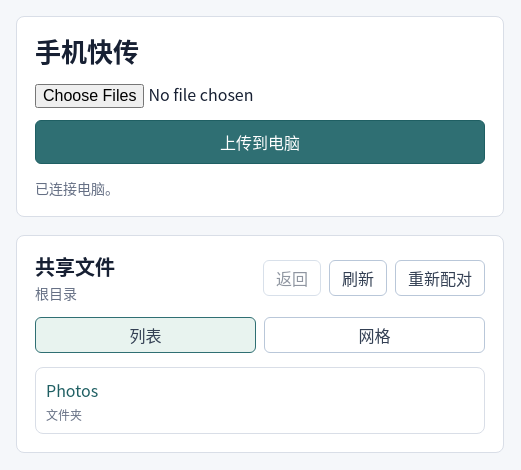
it: MobileApp › renders shared file metadata and enters directories
What coordinates should you click on to do the following:
click the button "Photos 文件夹"
I would click on:
 (72, 390)
Its box is [35,366,485,434].
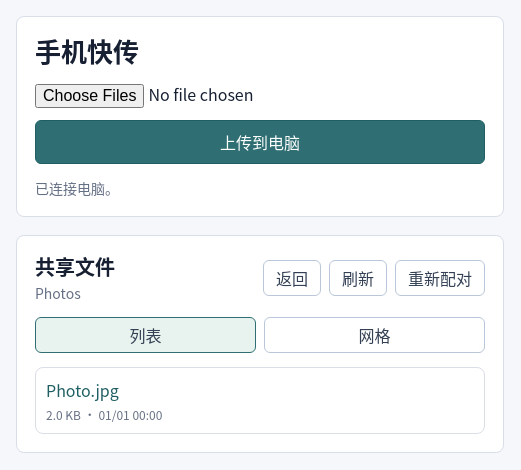
Expected: the text "Photo.jpg" is shown, [46,378,119,402]
Expected: the text "2.0 KB · 01/01 00:00" is shown, [46,406,162,422]
